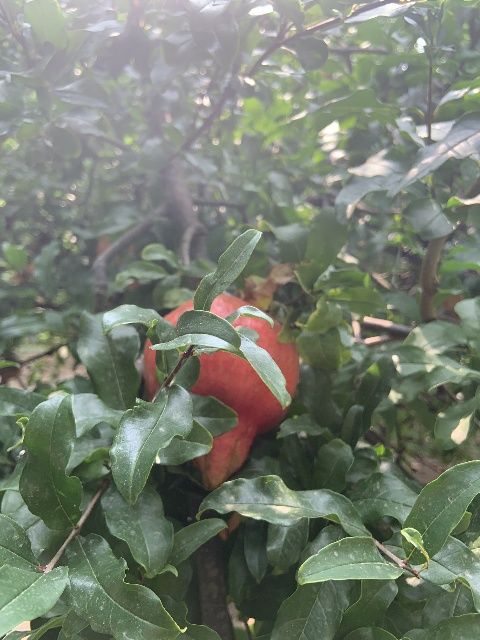ripe: (145, 293, 298, 492)
